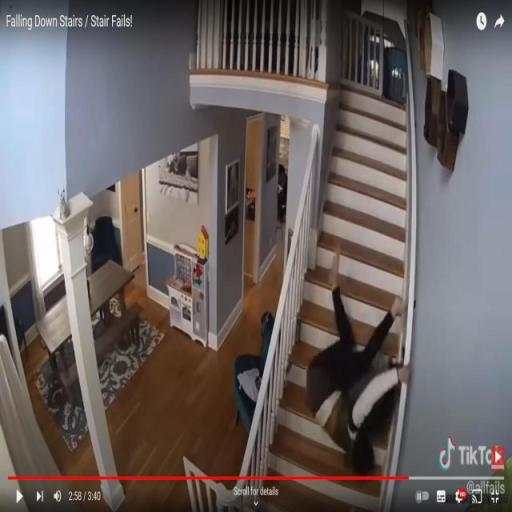Fall: (304, 243, 415, 476)
